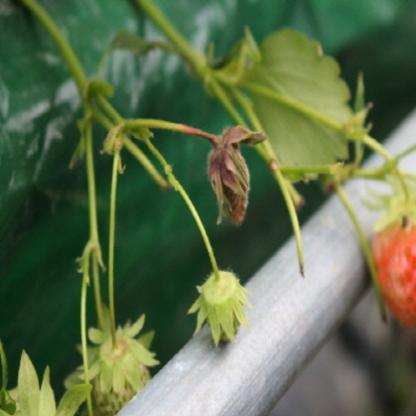Strawberry_Gray_Mold: (192, 124, 268, 228)
